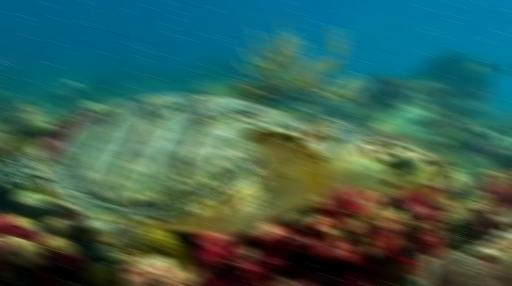Fish: (0, 95, 436, 231)
